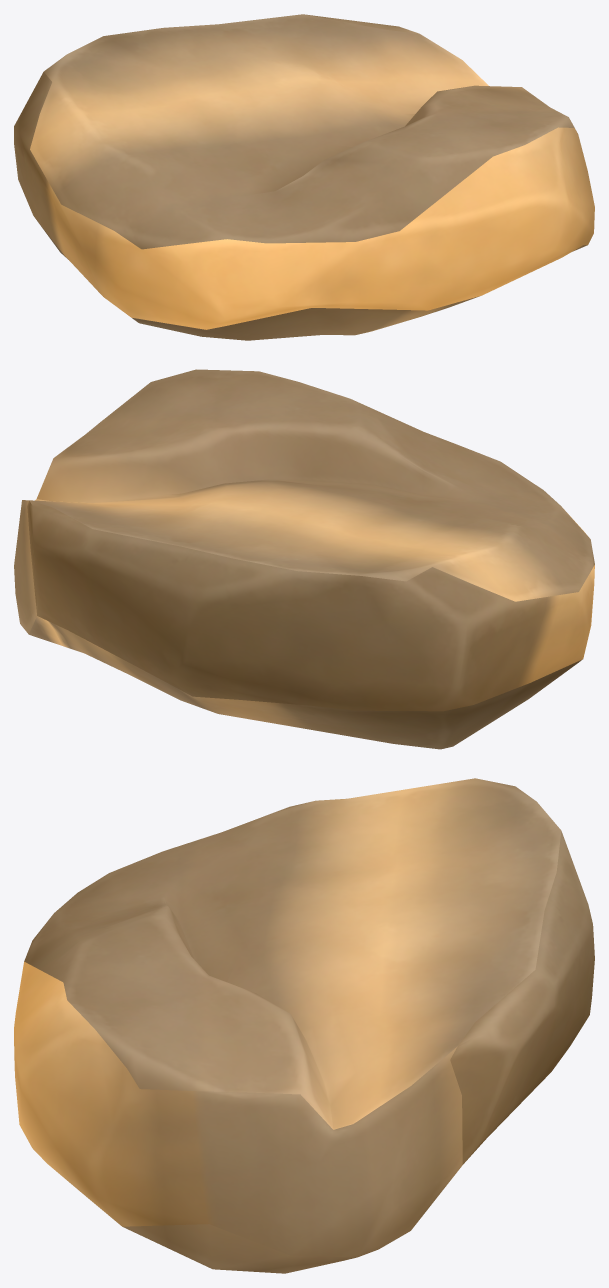
File: SM_Rock_02.fbx
3 views of the same model, one above another, from view 1: azimuth 30°, elevation 25°; view 2: azimuth 150°, elevation 25°; view 3: azimuth 270°, elevation 25° (orthographic). The views are drawn at different scales.
Parts seen in each view (by area): view 1: SM_Rock_02_LOD0; view 2: SM_Rock_02_LOD0; view 3: SM_Rock_02_LOD0.
Part boxes in pixels (x1=…): SM_Rock_02_LOD0: x1=14, y1=14, x2=594, y2=340; SM_Rock_02_LOD0: x1=14, y1=369, x2=594, y2=749; SM_Rock_02_LOD0: x1=14, y1=778, x2=594, y2=1273.
Size of the model in its own units: 233 by 193 by 97.45.
